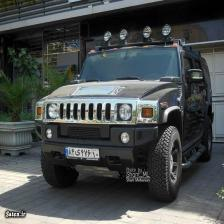plate: (64, 146, 100, 161)
